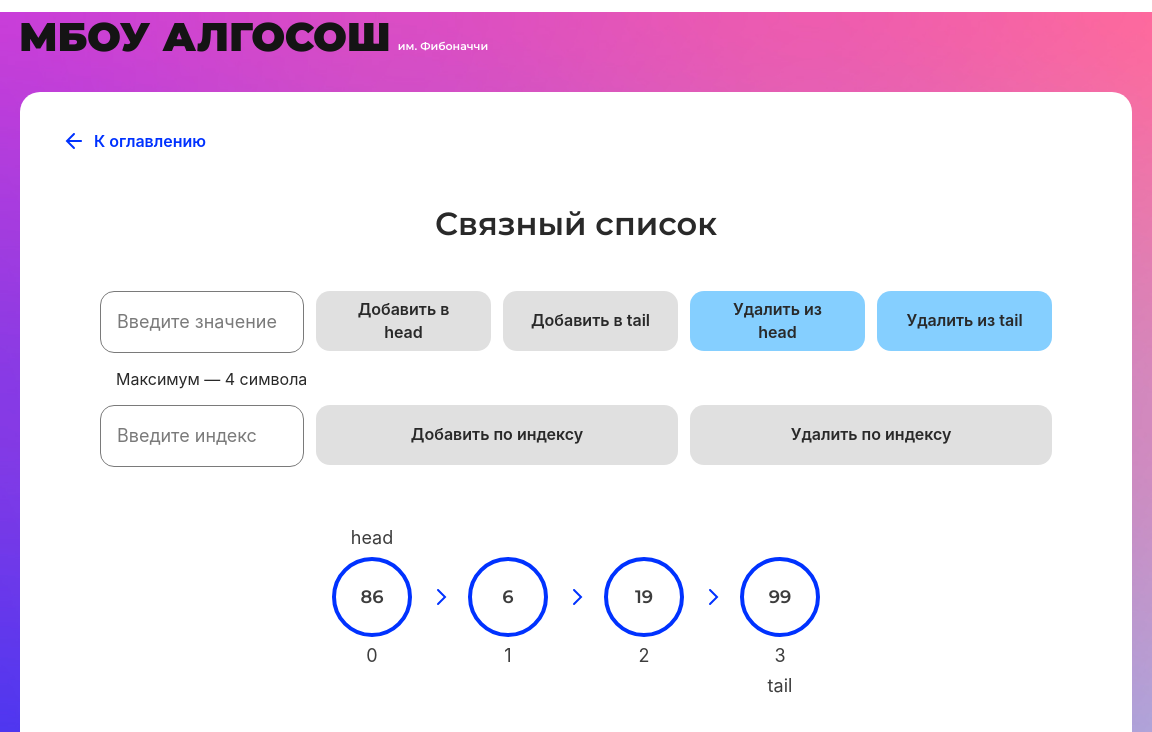
Test: list › add element to tail
Check: the heading "Связный список" is shown, box 435,204 -> 717,243
Type "1" into the field with test id "listInputEl" at (202, 322), box 100,291 -> 304,353
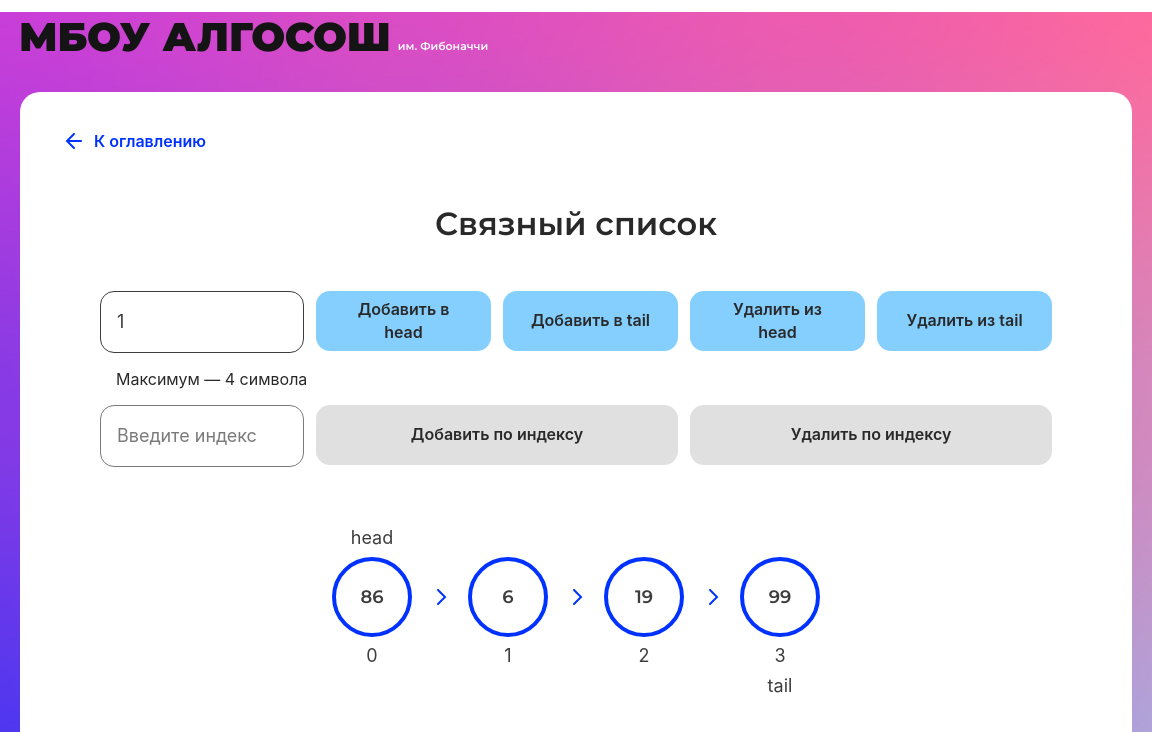
Click the button with test id "listButtonAddTail" at (591, 321), box 503,291 -> 678,351
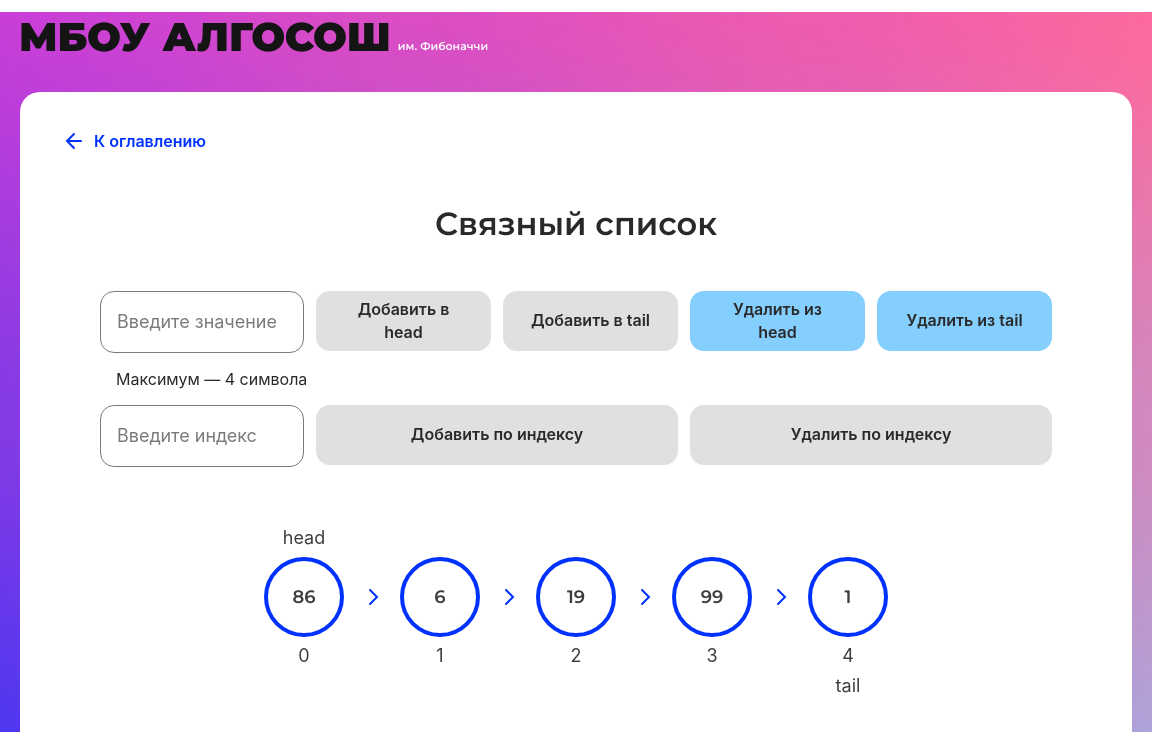
Check: the text "head" is shown, box 283,527 -> 325,549
Check: the element with test id "stringCircle" reads "1", box 808,557 -> 888,637
Check: the text "4" is shown, box 842,645 -> 854,667
